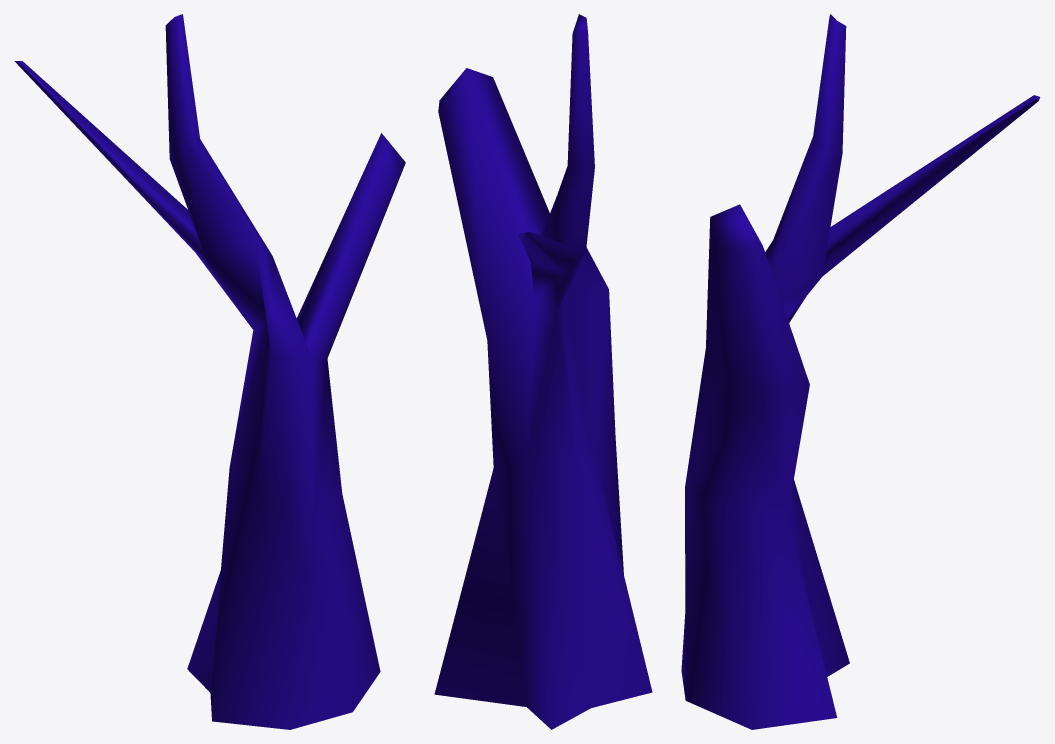
The model's file is CG_Model_TownExt_Tree1_Mar24_ChrisMcknight.FBX.
3 renders of one model, left to right at view 1: azimuth 30°, elevation 25°; view 2: azimuth 150°, elevation 25°; view 3: azimuth 270°, elevation 25°, orthographic. The views are drawn at different scales.
Parts seen in each view (by area): view 1: Cylinder039; view 2: Cylinder039; view 3: Cylinder039.
Boxes of the visible parts, bbox=[...] form: Cylinder039: bbox=[14, 14, 405, 729]; Cylinder039: bbox=[434, 14, 652, 729]; Cylinder039: bbox=[681, 14, 1040, 729].
Bounding box in the file's own units: 22.05 × 59.31 × 30.13.
